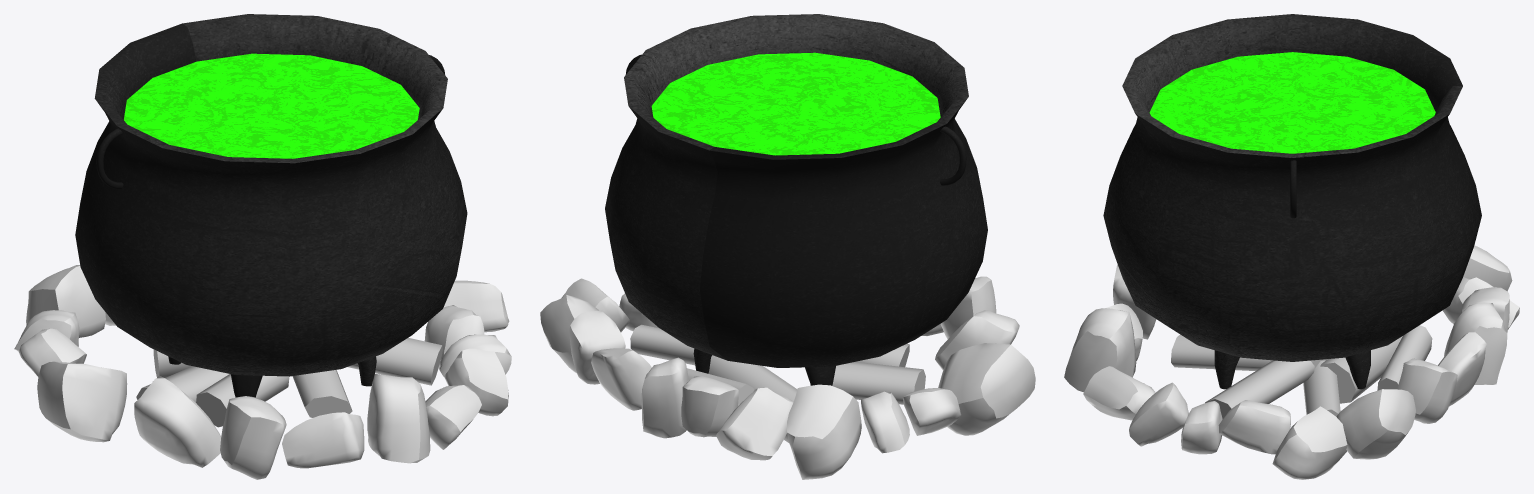
Rendered from SM_Cauldron.fbx.
3 renders of one model, left to right at view 1: azimuth 30°, elevation 25°; view 2: azimuth 150°, elevation 25°; view 3: azimuth 270°, elevation 25°, orthographic. The views are drawn at different scales.
Visible parts, largest first — view 1: Cylinder.007; view 2: Cylinder.007; view 3: Cylinder.007.
Part boxes in pixels (<box>): Cylinder.007: <box>14,14,511,479</box>; Cylinder.007: <box>540,14,1035,479</box>; Cylinder.007: <box>1064,14,1519,479</box>.
Size of the model in its own units: 155 by 101 by 139.
